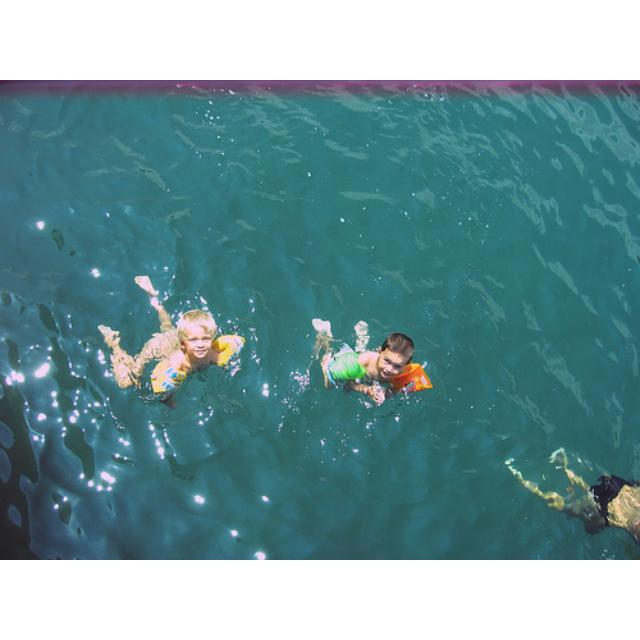human: (99, 273, 247, 402), (509, 440, 639, 555), (313, 313, 432, 414)
